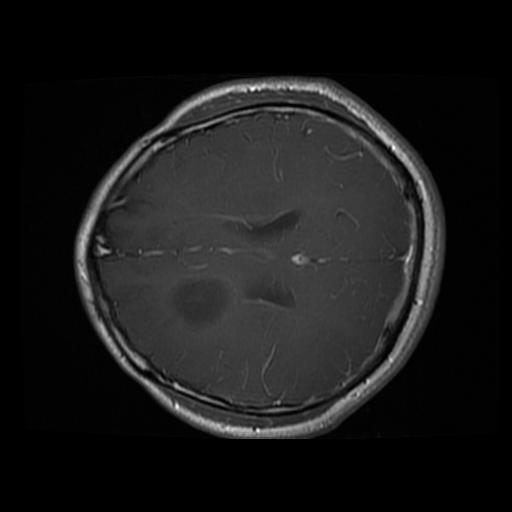glioma: (159, 276, 234, 334)
